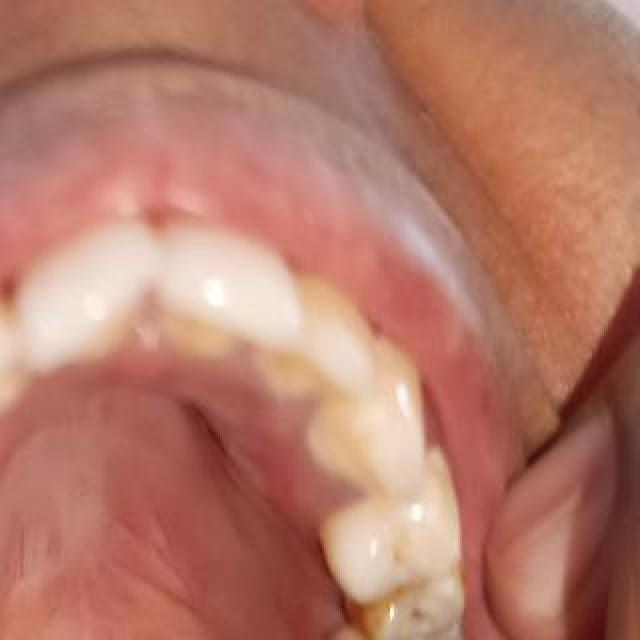maligned: (8, 226, 168, 384)
stains: (332, 576, 400, 640)
